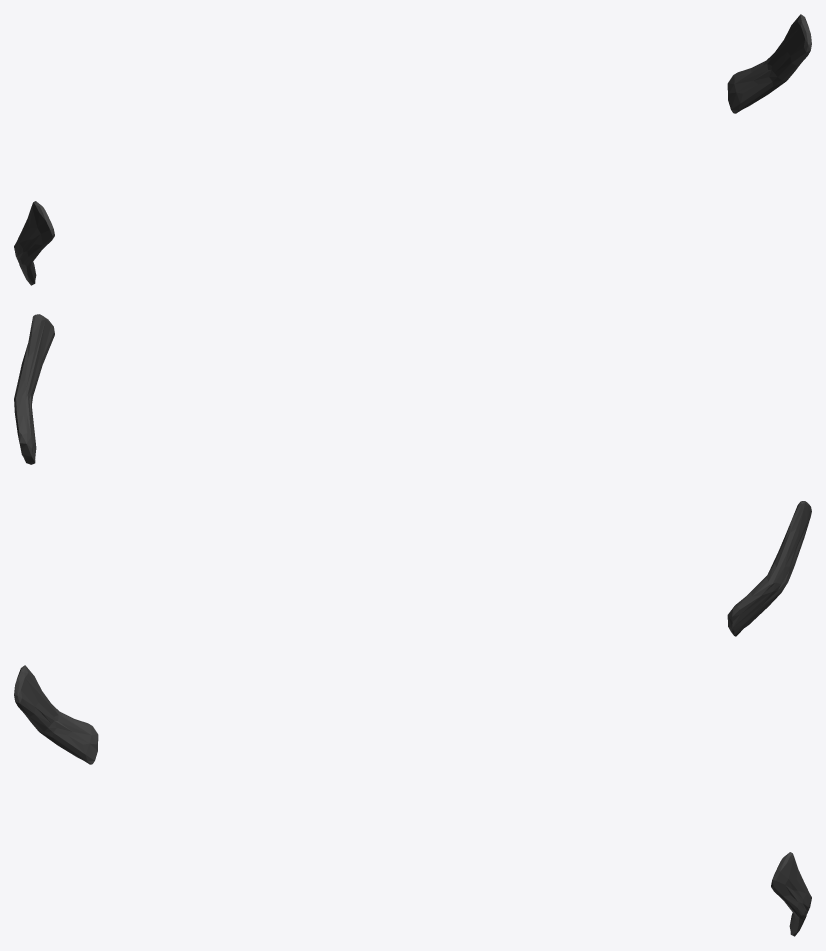
Rendered from lig_lateral_collateral_stifle.glb.
The picture shows the model from 3 angles, top to bottom: view 1: azimuth 30°, elevation 25°; view 2: azimuth 150°, elevation 25°; view 3: azimuth 330°, elevation 25°; orthographic projection.
Visible parts, largest first — view 1: lig_lateral_collateral_stifle; view 2: lig_lateral_collateral_stifle; view 3: lig_lateral_collateral_stifle.
Boxes of the visible parts, left/top/right/bottom form: lig_lateral_collateral_stifle: left=14, top=14, right=811, bottom=285; lig_lateral_collateral_stifle: left=14, top=314, right=811, bottom=636; lig_lateral_collateral_stifle: left=14, top=665, right=811, bottom=936.
Bounding box in the file's own units: 0.00759 × 0.0011 × 0.000955.
Materials: 1 (1 with a texture image).
